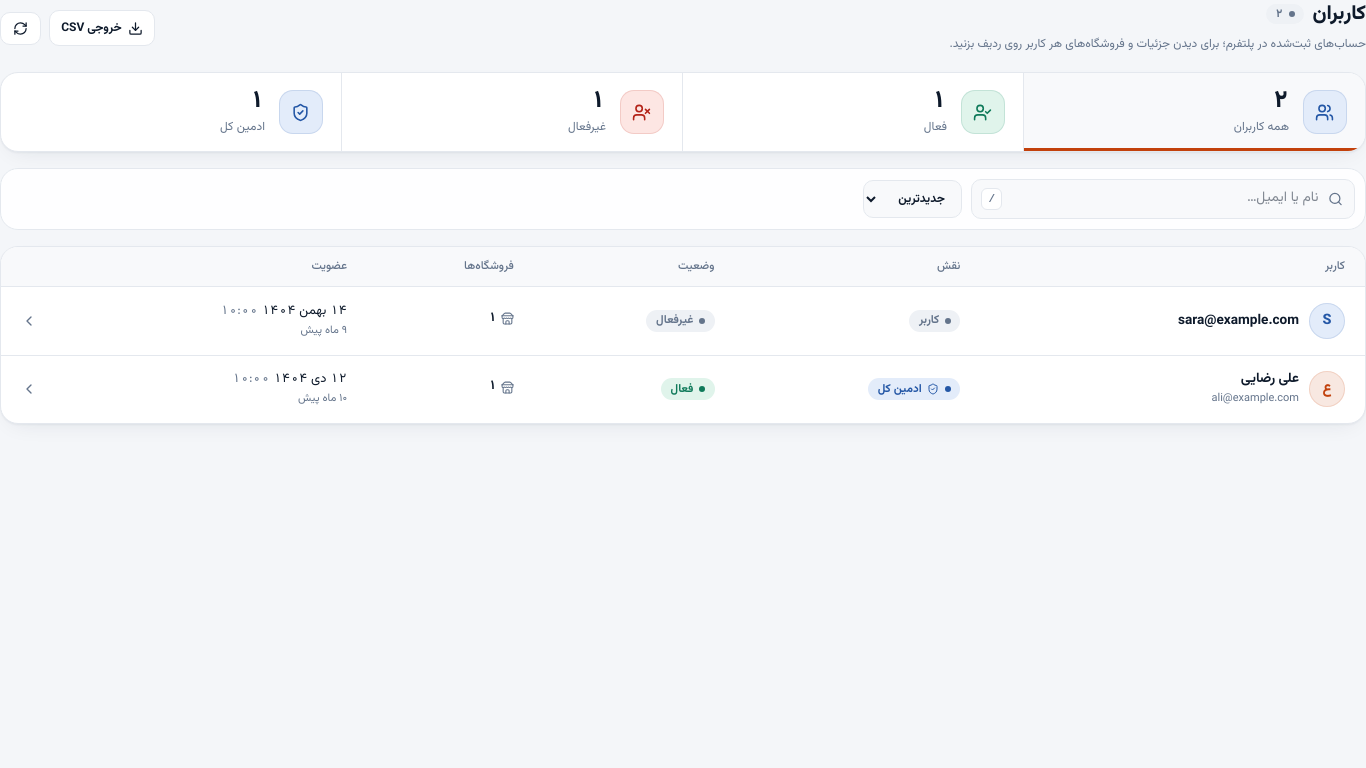
Test case: users screen › filters inactive users and shows the stores a user owns
Expected: the text "علی رضایی" is shown, 1241,368 -> 1299,389
Click the button "۱ غیرفعال": click(642, 112) 342,73 -> 683,151
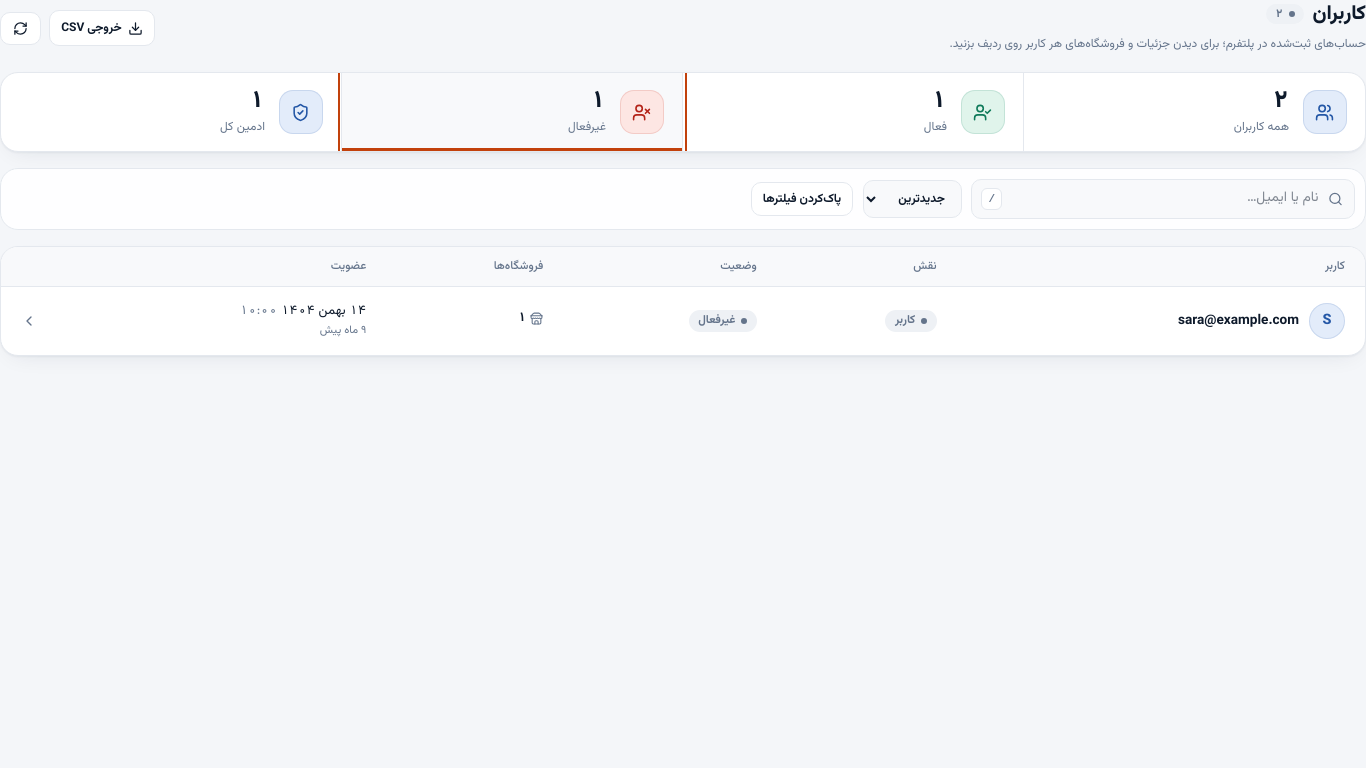
Now the text "علی رضایی" is gone
Click the text "sara@example.com": click(1239, 321) 1178,311 -> 1299,331
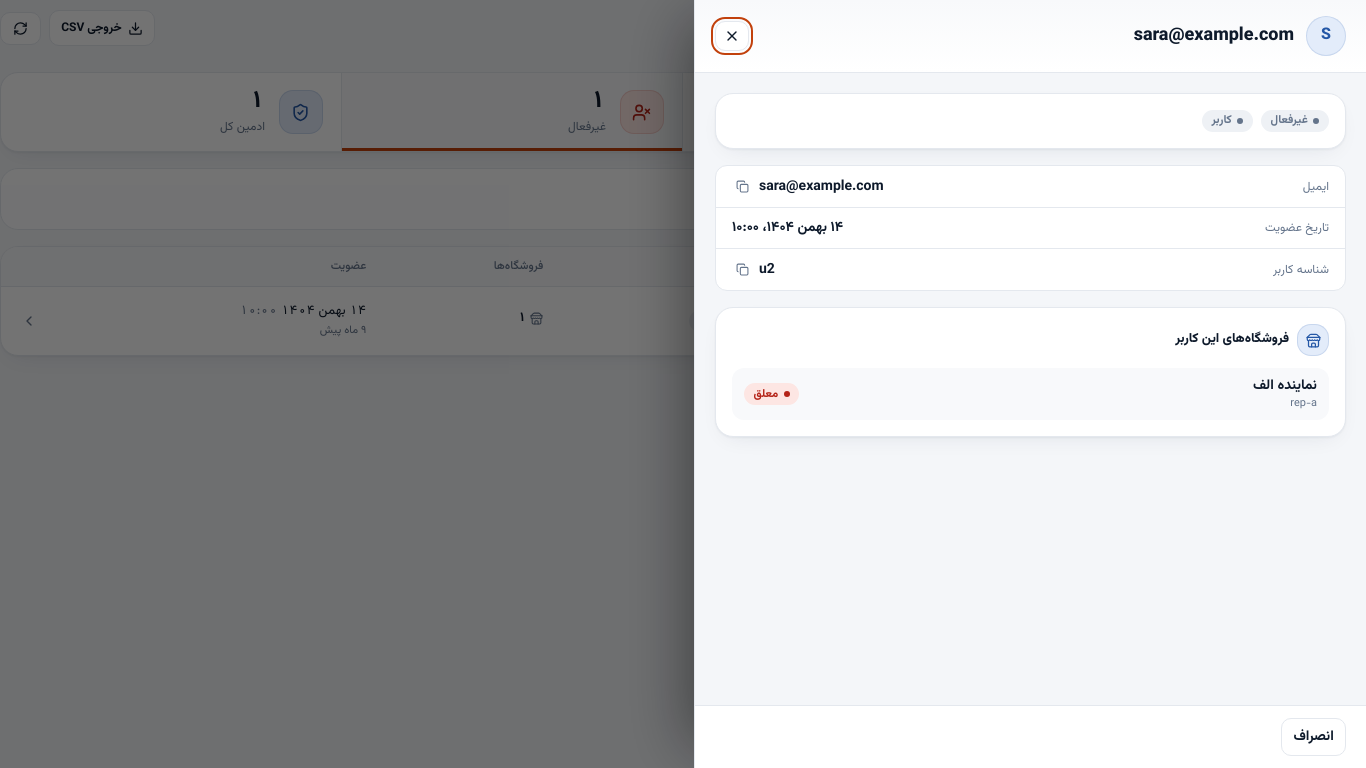
Now the text "نماینده الف" is shown, box 1253,376 -> 1317,396
